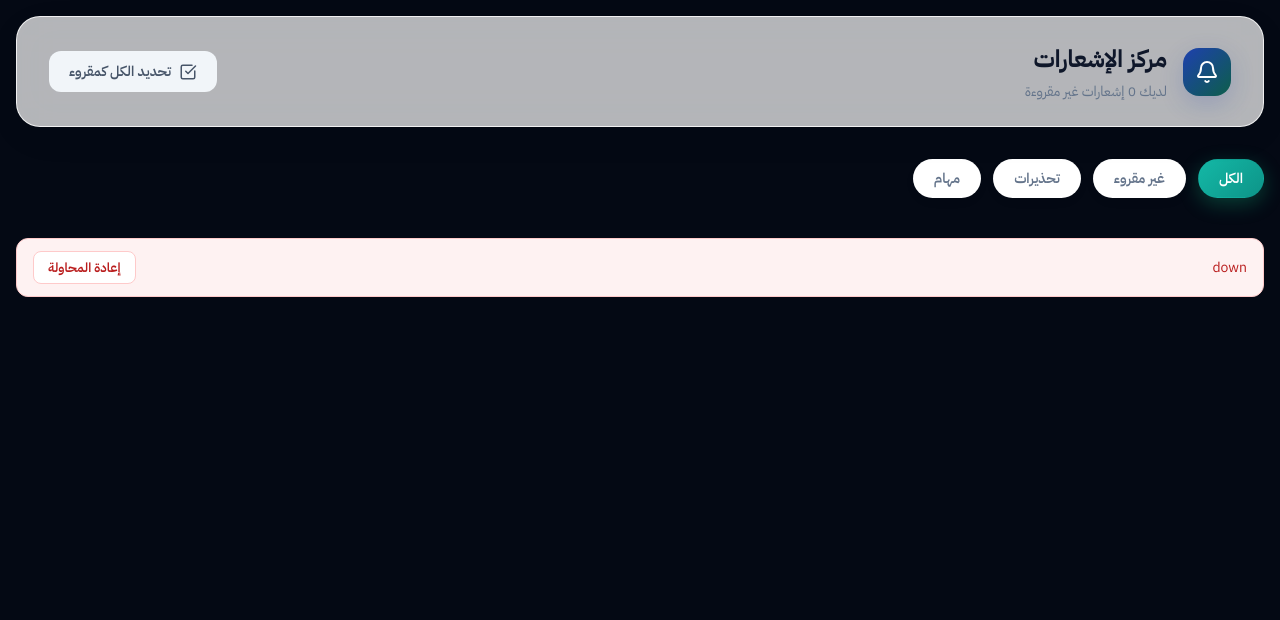
Scenario: Notifications page › shows the error banner with a working retry
Check: the message "down إعادة المحاولة" is shown, box [16,238,1264,297]
Click the button "إعادة المحاولة": (84, 268) [33,251,136,284]
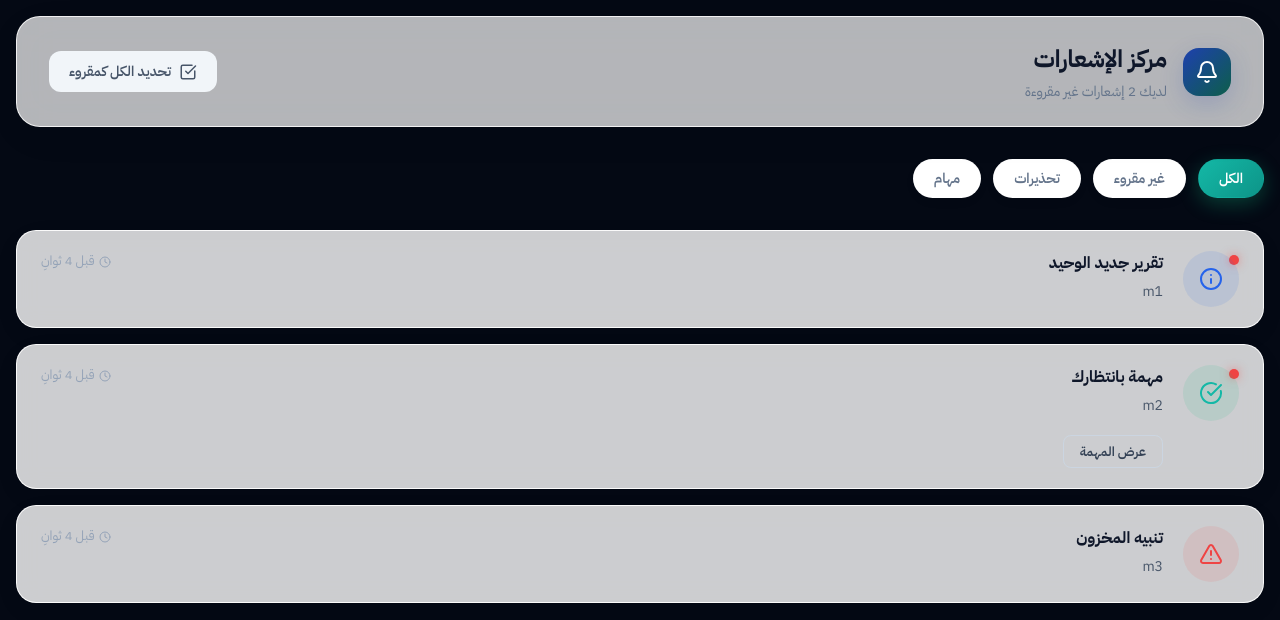
Check: the heading "تقرير جديد الوحيد" is shown, box [1049,251,1163,275]
